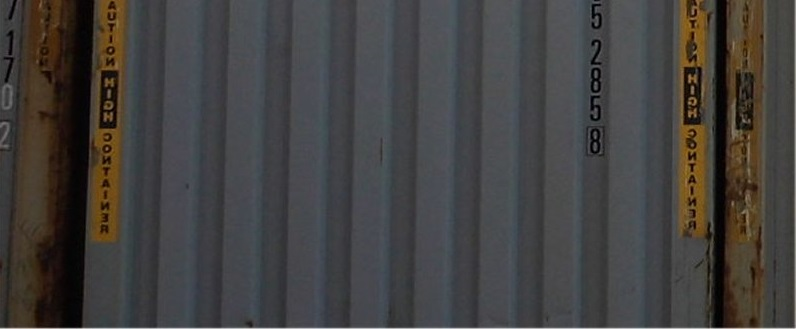container_no_door: (80, 4, 718, 325)
